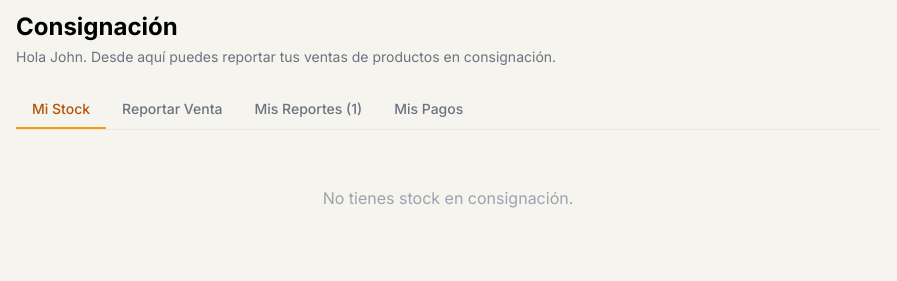
Test: MySalesPage › displays history of reports
The width and height of the screenshot is (897, 281).
Click the button "Mis Reportes (1)".
click(308, 110)  # box [238,91,378,129]
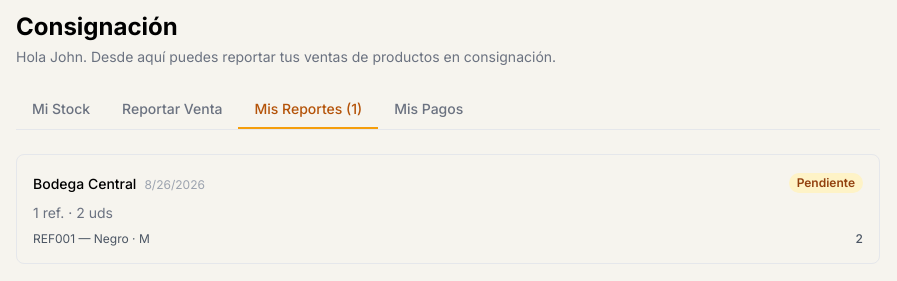
expect the text "Pendiente" is shown: met, box [789,173,863,193]
expect the text "Bodega Central" is shown: met, box [33,175,136,192]
